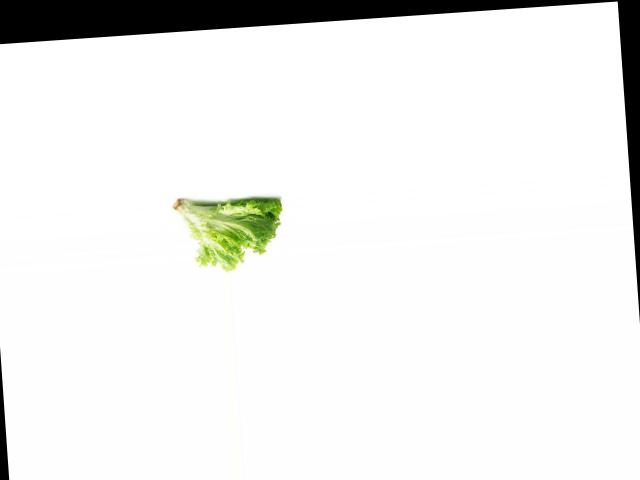lettuce: (169, 190, 285, 275)
